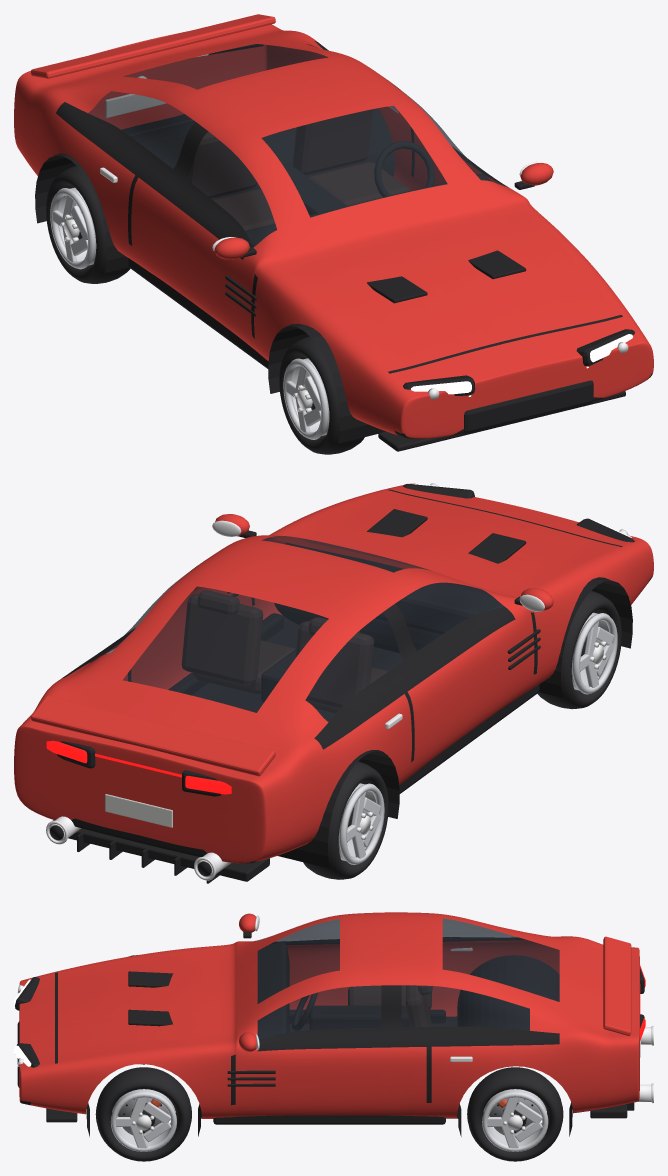
File: lumen.glb
The picture shows the model from 3 angles, top to bottom: view 1: azimuth 30°, elevation 25°; view 2: azimuth 150°, elevation 25°; view 3: azimuth 270°, elevation 25°; orthographic projection. The views are drawn at different scales.
Parts seen in each view (by area): view 1: body, wheel_fr, wheel_rr; view 2: body, wheel_rr, wheel_fr; view 3: body, wheel_fl, wheel_rl.
Part boxes in pixels (x1,y1,x2,y2): body: (14, 14, 653, 451); wheel_fr: (279, 336, 364, 454); wheel_rr: (46, 165, 130, 283); body: (14, 483, 653, 883); wheel_rr: (303, 761, 388, 879); wheel_fr: (537, 591, 621, 709); body: (14, 912, 653, 1136); wheel_fl: (95, 1067, 191, 1161); wheel_rl: (467, 1067, 563, 1161).
Size of the model in its own units: 2.19 by 1.32 by 4.52.
